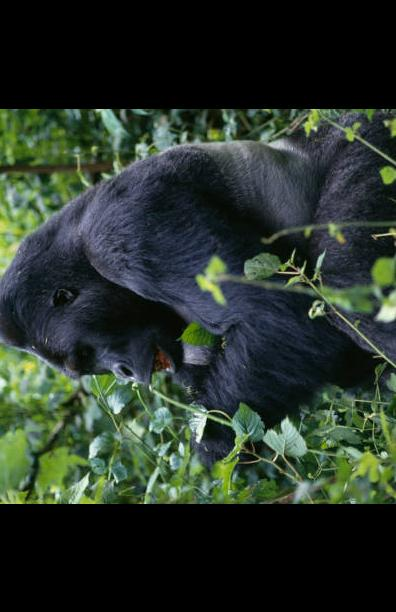goriile_montagne: (0, 108, 396, 436)
